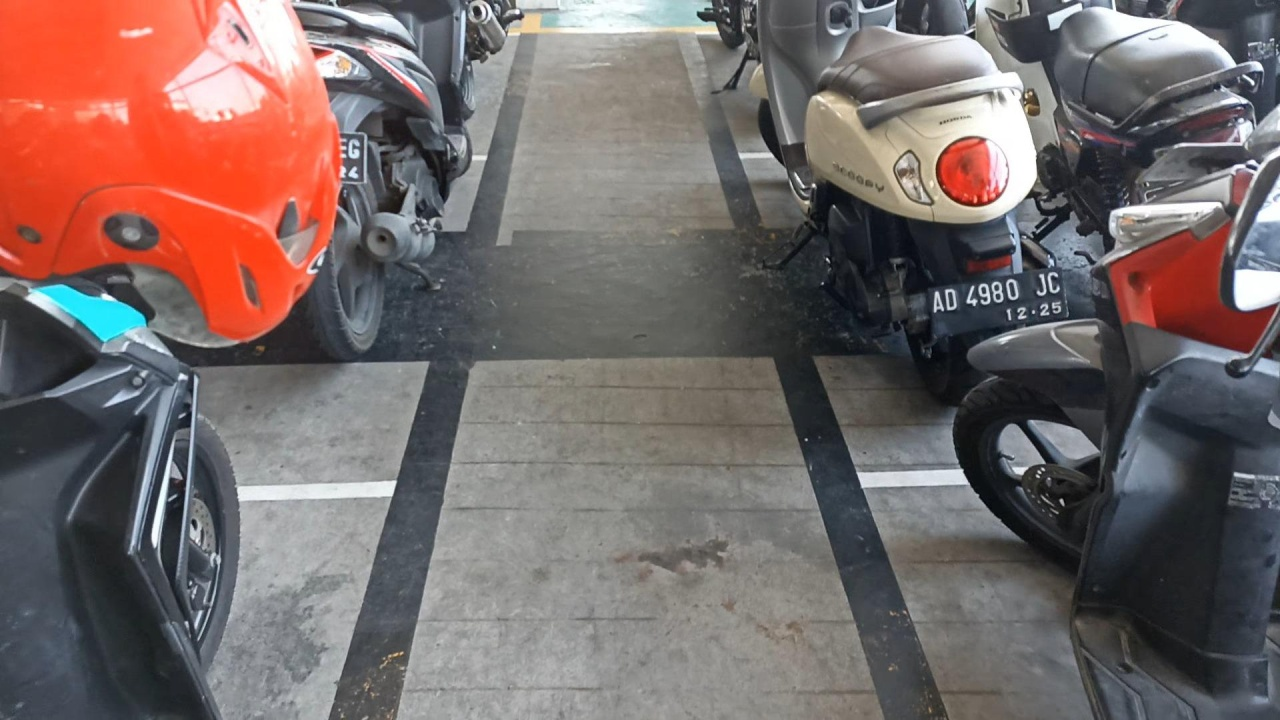plate: (928, 266, 1069, 338)
